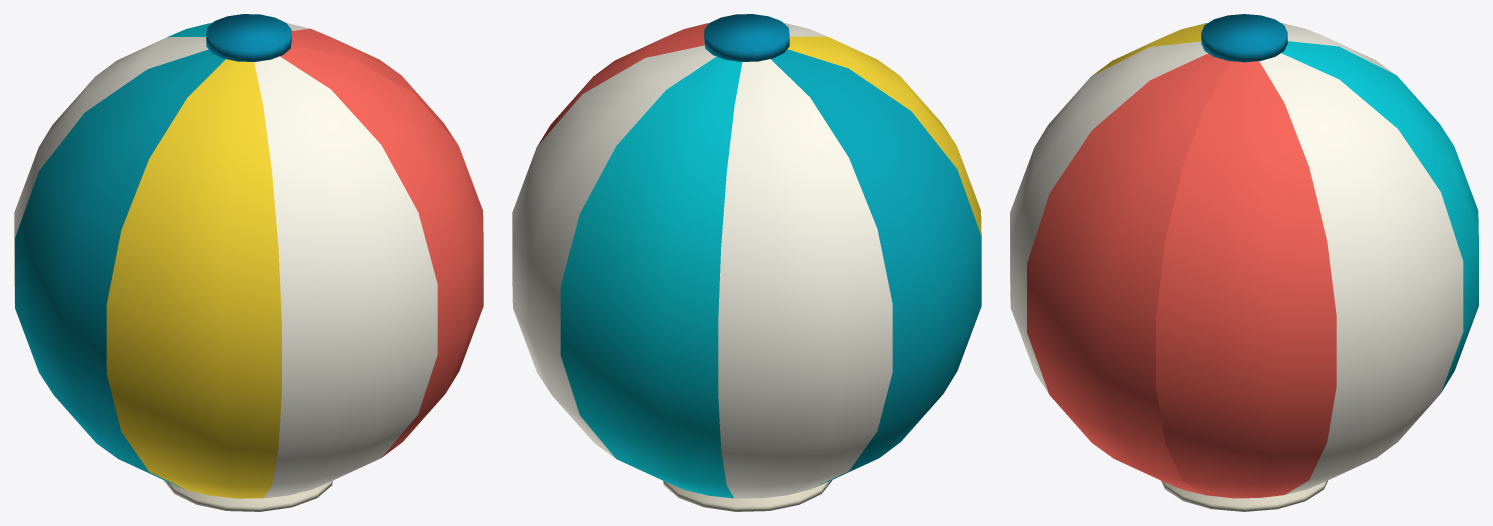
File: BeachBall.glb
3 renders of one model, left to right at view 1: azimuth 30°, elevation 25°; view 2: azimuth 150°, elevation 25°; view 3: azimuth 270°, elevation 25°, orthographic.
Parts seen in each view (by area): view 1: BeachBall_PanelYellow01, BeachBall_PanelWhite03, BeachBall_PanelTeal02, BeachBall_PanelCoral02, BeachBall_PanelWhite02, BeachBall_Cap, BeachBall_ContactPatch, BeachBall_PanelCoral01; view 2: BeachBall_PanelWhite02, BeachBall_PanelTeal01, BeachBall_PanelTeal02, BeachBall_PanelWhite01, BeachBall_PanelYellow01, BeachBall_Cap, BeachBall_PanelCoral01, BeachBall_ContactPatch; view 3: BeachBall_PanelCoral01, BeachBall_PanelCoral02, BeachBall_PanelWhite01, BeachBall_PanelWhite03, BeachBall_PanelTeal01, BeachBall_Cap, BeachBall_ContactPatch, BeachBall_PanelYellow01, BeachBall_PanelWhite02.
Part boxes in pixels (x1,y1,x2,y2): BeachBall_PanelYellow01: [106, 59, 281, 498]; BeachBall_PanelWhite03: [254, 56, 437, 498]; BeachBall_PanelTeal02: [15, 49, 225, 489]; BeachBall_PanelCoral02: [280, 45, 483, 457]; BeachBall_PanelWhite02: [14, 36, 208, 302]; BeachBall_Cap: [206, 14, 291, 61]; BeachBall_ContactPatch: [163, 480, 332, 511]; BeachBall_PanelCoral01: [291, 28, 457, 144]; BeachBall_PanelWhite02: [718, 59, 892, 498]; BeachBall_PanelTeal01: [560, 56, 742, 498]; BeachBall_PanelTeal02: [771, 49, 981, 487]; BeachBall_PanelWhite01: [512, 45, 716, 458]; BeachBall_PanelYellow01: [787, 36, 981, 235]; BeachBall_Cap: [704, 14, 789, 61]; BeachBall_PanelCoral01: [537, 29, 704, 146]; BeachBall_ContactPatch: [663, 480, 832, 511]; BeachBall_PanelCoral01: [1156, 61, 1336, 498]; BeachBall_PanelCoral02: [1027, 53, 1230, 495]; BeachBall_PanelWhite01: [1259, 53, 1463, 494]; BeachBall_PanelWhite03: [1010, 41, 1207, 394]; BeachBall_PanelTeal01: [1281, 41, 1478, 392]; BeachBall_Cap: [1201, 14, 1287, 62]; BeachBall_ContactPatch: [1161, 480, 1327, 511]; BeachBall_PanelYellow01: [1091, 23, 1205, 76]; BeachBall_PanelWhite02: [1282, 23, 1395, 74].
Size of the model in its own units: 1.96 by 2.04 by 1.96.
